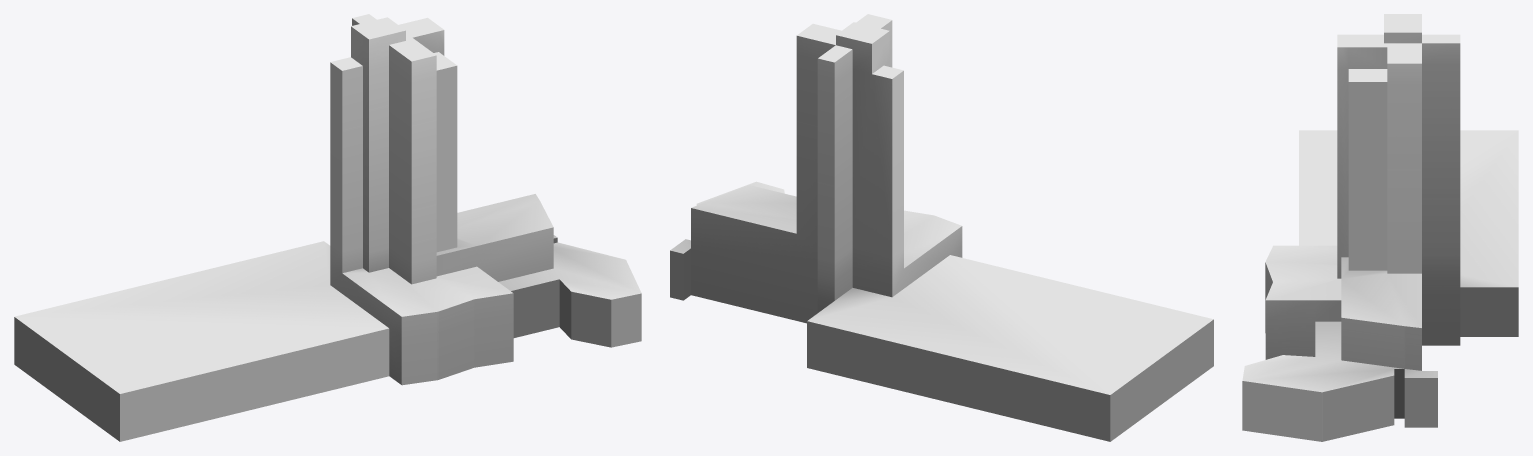
Rendered from grashof1.4_groesser.dae.
3 views of the same model, side by side, from view 1: azimuth 30°, elevation 25°; view 2: azimuth 150°, elevation 25°; view 3: azimuth 270°, elevation 25° (orthographic). The views are drawn at different scales.
Visible parts, largest first — view 1: Mesh_004; view 2: Mesh_004; view 3: Mesh_004.
Part boxes in pixels (bbox=[...]): Mesh_004: bbox=[14, 14, 641, 441]; Mesh_004: bbox=[670, 14, 1213, 441]; Mesh_004: bbox=[1242, 14, 1518, 441].
Size of the model in its own units: 49.27 by 21.95 by 27.46.
3 materials, 3 textured.
